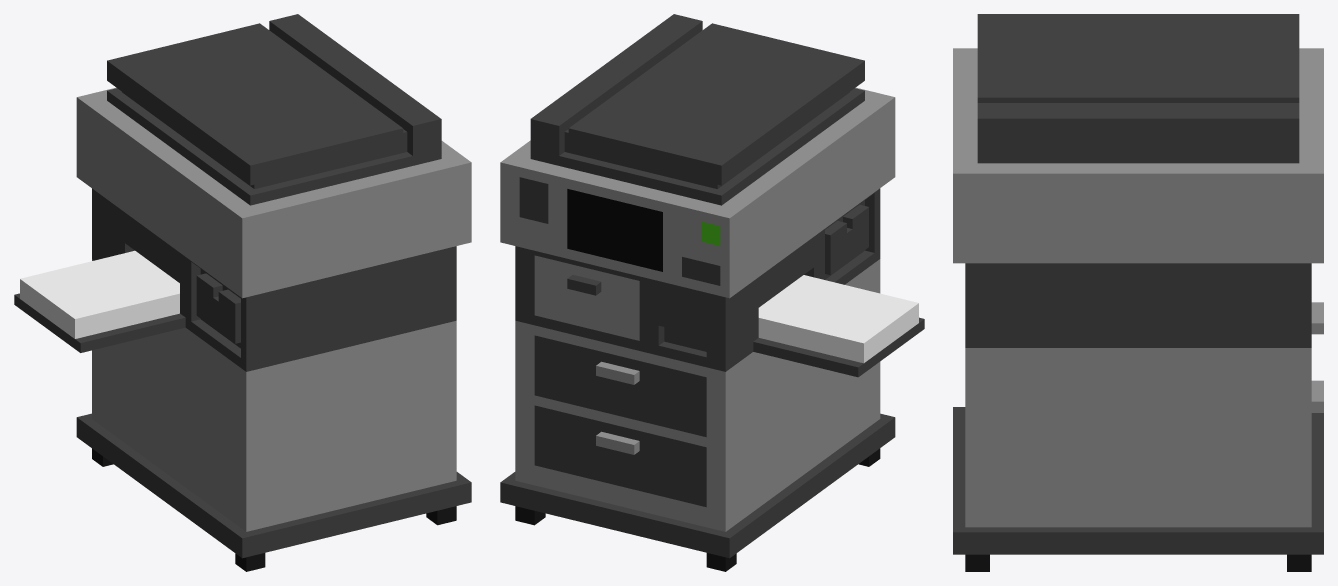
File: photocopier_01.dae
3 views of the same model, side by side, from view 1: azimuth 30°, elevation 25°; view 2: azimuth 150°, elevation 25°; view 3: azimuth 270°, elevation 25° (orthographic). The views are drawn at different scales.
Visible parts, largest first — view 1: Untitled.002, Untitled.001; view 2: Untitled.002, Untitled.001; view 3: Untitled.002.
Part boxes in pixels (<box>): Untitled.002: <box>14,14,471,571</box>; Untitled.001: <box>20,250,179,338</box>; Untitled.002: <box>500,14,924,571</box>; Untitled.001: <box>758,275,918,363</box>; Untitled.002: <box>953,14,1323,571</box>.
Bounding box in the file's own units: 1.02 × 0.9 × 1.2.
3 materials, 3 textured.
